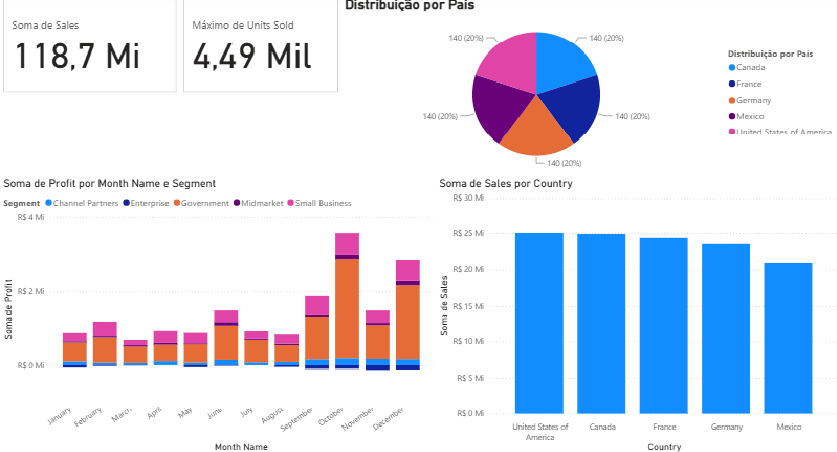

The dashboard page shown, as its layout file describes it:
{"tool":"powerbi","page":{"name":"Detalhamento","canvas":[1280,720],"ordinal":1},"visuals":[{"type":"cardVisual","fields":{"Data":["Sum(financials. Sales)","select"]},"box":[0,0,273.8,155.7],"z":0},{"type":"cardVisual","fields":{"Data":["Max(financials.Units Sold)"]},"box":[273.8,0,245.9,155.7],"z":1},{"type":"pieChart","title":"Distribuição por País","fields":{"Category":["financials.Country"],"Y":["CountNonNull(financials.Country)"]},"box":[519.7,0,760.7,283.6],"z":2},{"type":"columnChart","fields":{"Category":["financials.Month Name"],"Series":["financials.Segment"],"Y":["Sum(financials.Profit)"]},"box":[0,283.6,662.3,436.1],"z":3},{"type":"clusteredColumnChart","fields":{"Category":["financials.Country"],"Y":["Sum(financials. Sales)"]},"box":[662.3,283.6,618,436.1],"z":4}]}

Visuals, with their boxes on the page's 1280x720 design canvas (x1, y1, x2, y2). These are canvas units, not pixel positions in the 837x452 screenshot, which may show the page scaled, cropped or inside an application window:
cardVisual - Sum(financials. Sales) x select: {"left": 0, "top": 0, "right": 274, "bottom": 156}
cardVisual - Max(financials.Units Sold): {"left": 274, "top": 0, "right": 520, "bottom": 156}
"Distribuição por País" pieChart: {"left": 520, "top": 0, "right": 1280, "bottom": 284}
columnChart - financials.Month Name x financials.Segment: {"left": 0, "top": 284, "right": 662, "bottom": 720}
clusteredColumnChart - financials.Country x Sum(financials. Sales): {"left": 662, "top": 284, "right": 1280, "bottom": 720}
